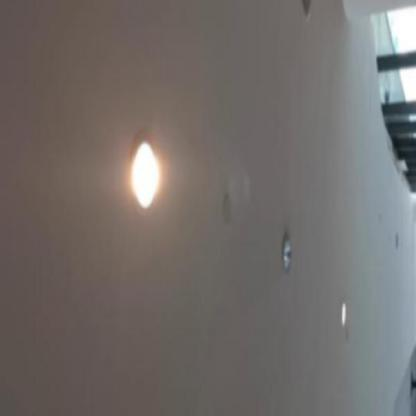light_on: (122, 114, 165, 224), (336, 290, 350, 335)
